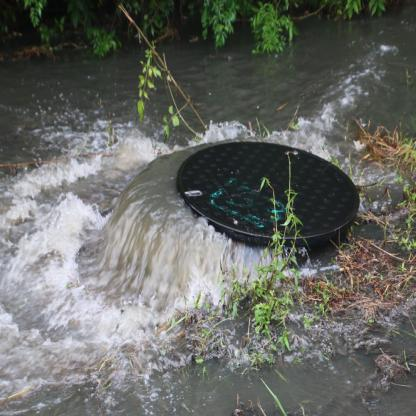drainage overflow-repair-: (20, 101, 379, 366)
